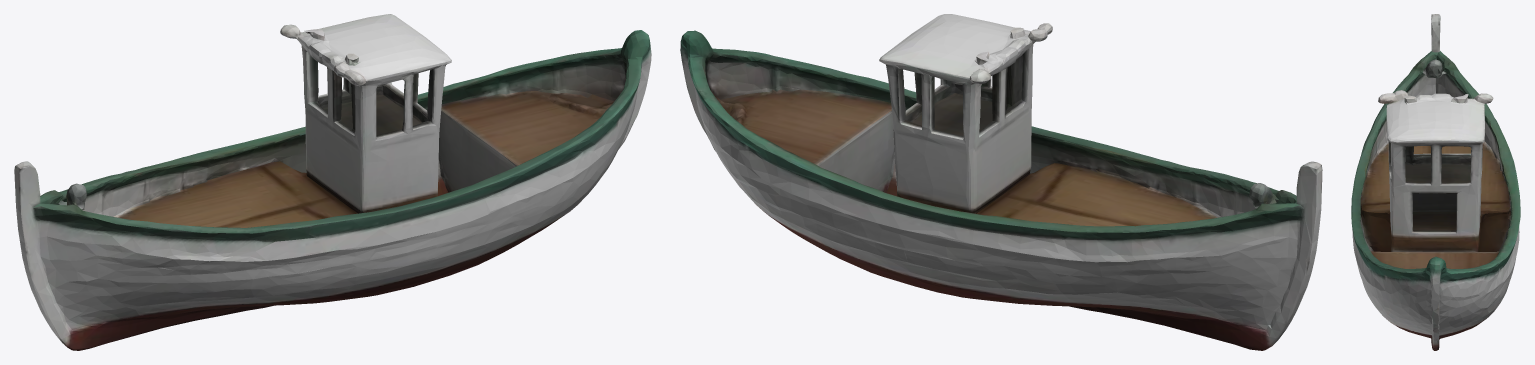
The model's file is snekke.glb.
3 views of the same model, side by side, from view 1: azimuth 30°, elevation 25°; view 2: azimuth 150°, elevation 25°; view 3: azimuth 270°, elevation 25° (orthographic). The views are drawn at different scales.
Visible parts, largest first — view 1: geometry_0; view 2: geometry_0; view 3: geometry_0.
Boxes of the visible parts, x1,y1,x2,y2 form: geometry_0: (14, 14, 651, 350); geometry_0: (680, 14, 1322, 350); geometry_0: (1351, 14, 1520, 350).
Size of the model in its own units: 0.9977 by 0.3742 by 0.304.
Materials: 1 (1 with a texture image).
